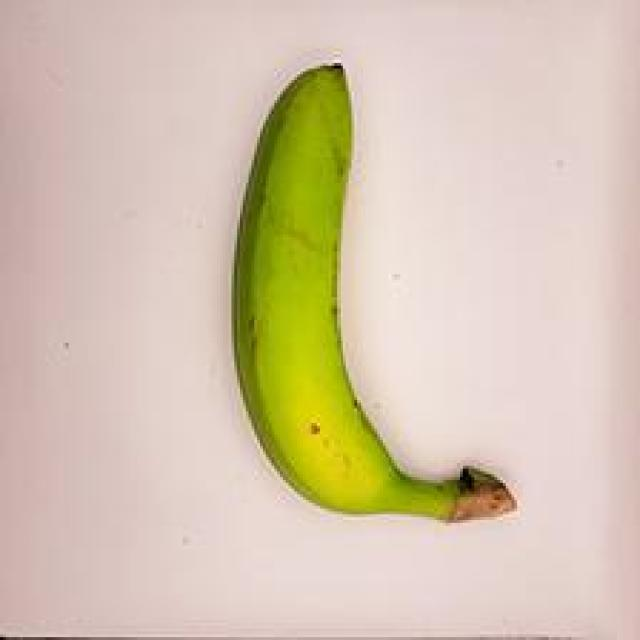Unripe: (221, 57, 532, 556)
